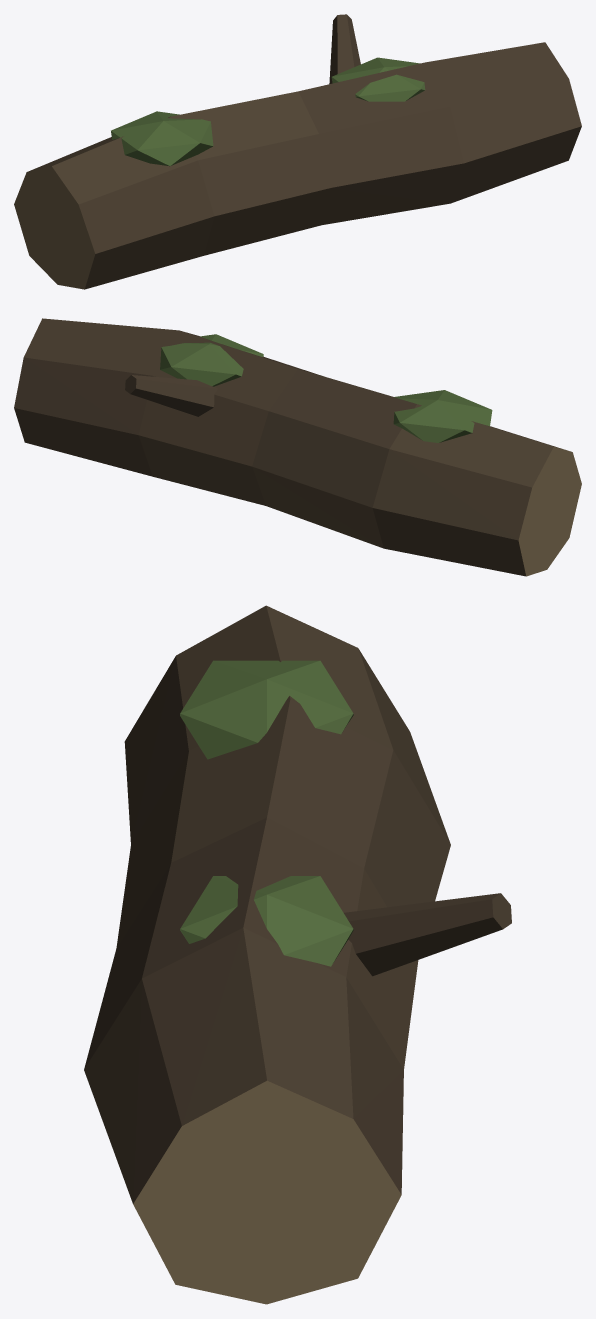
The picture shows the model from 3 angles, top to bottom: view 1: azimuth 30°, elevation 25°; view 2: azimuth 150°, elevation 25°; view 3: azimuth 270°, elevation 25°; orthographic projection. The views are drawn at different scales.
Parts seen in each view (by area): view 1: forest-log; view 2: forest-log; view 3: forest-log.
Boxes of the visible parts, x1,y1,x2,y2 form: forest-log: (14, 14, 581, 289); forest-log: (14, 318, 581, 576); forest-log: (84, 605, 511, 1304).
Bounding box in the file's own units: 1.47 × 0.4081 × 0.5459.
